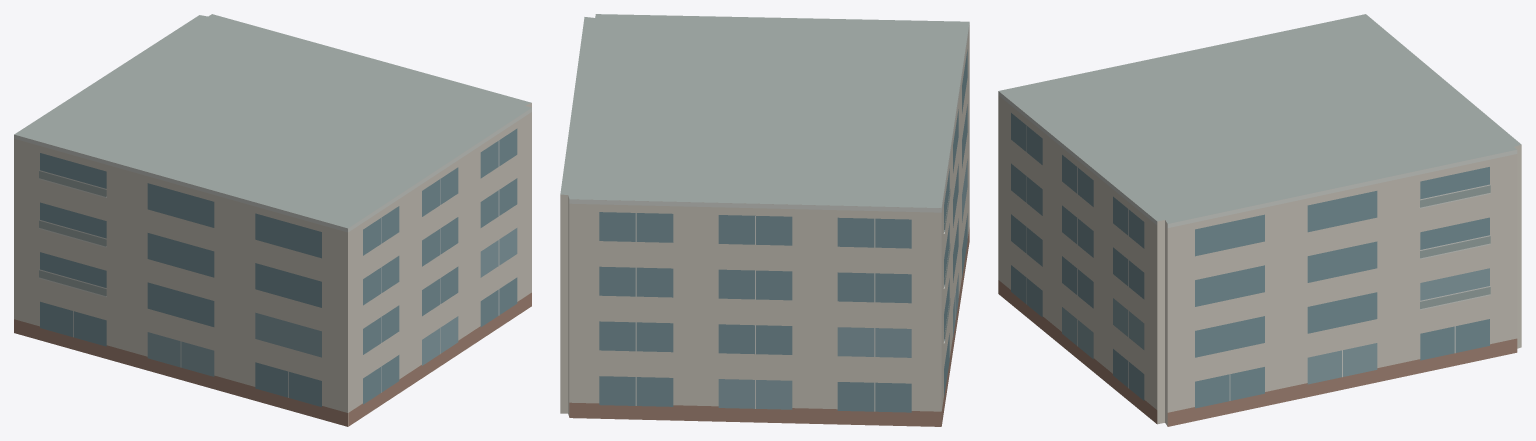
File: survey-upis-32957628.glb
3 views of the same model, side by side, from view 1: azimuth 30°, elevation 25°; view 2: azimuth 150°, elevation 25°; view 3: azimuth 270°, elevation 25° (orthographic). The views are drawn at different scales.
Parts seen in each view (by area): view 1: survey-upis-32957628.tmp; view 2: survey-upis-32957628.tmp; view 3: survey-upis-32957628.tmp.
Part boxes in pixels (x1,y1,x2,y2): survey-upis-32957628.tmp: (14, 14, 531, 426); survey-upis-32957628.tmp: (560, 14, 969, 426); survey-upis-32957628.tmp: (998, 14, 1521, 426).
Size of the model in its own units: 26.2 by 11.8 by 27.58.
